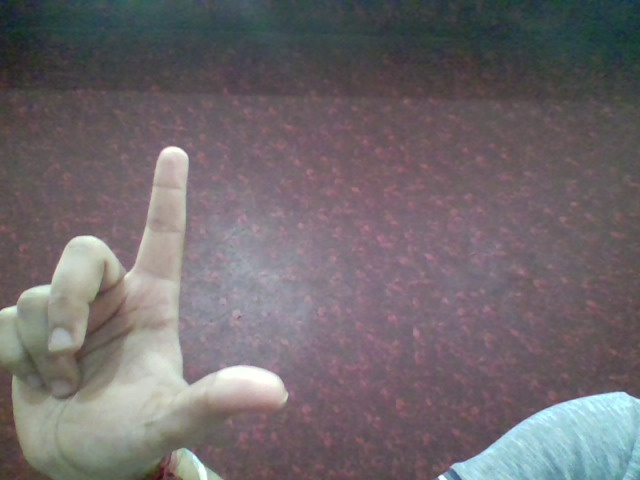l: (4, 140, 295, 475)
